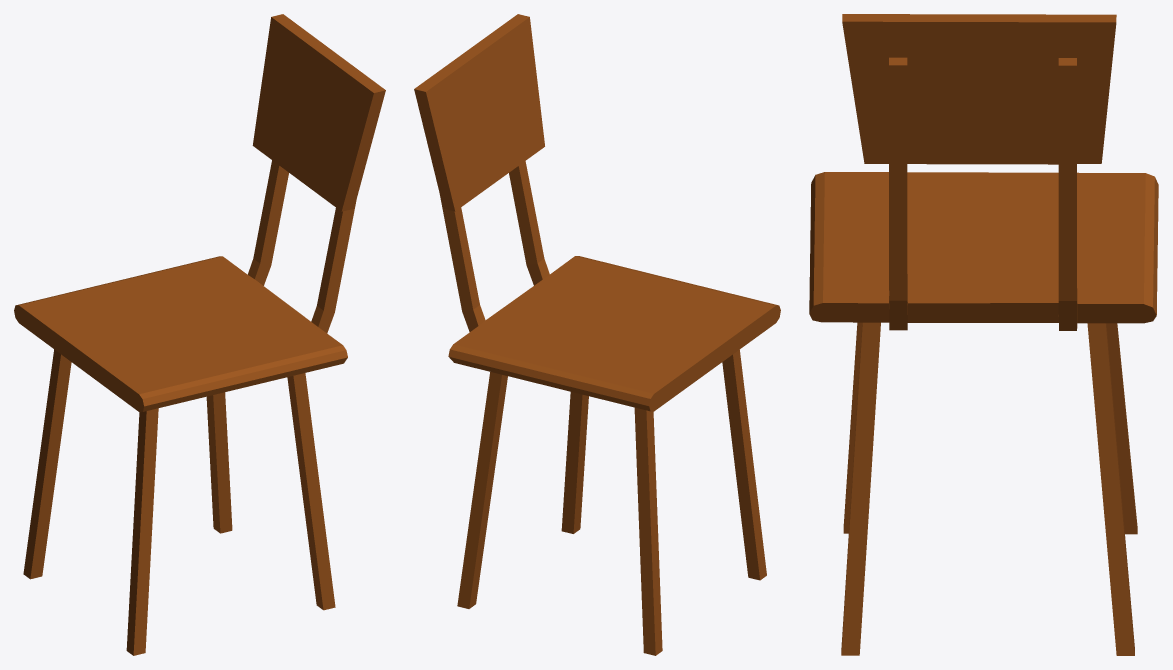
The model's file is SillaComedor.fbx.
3 views of the same model, side by side, from view 1: azimuth 30°, elevation 25°; view 2: azimuth 150°, elevation 25°; view 3: azimuth 270°, elevation 25° (orthographic). The views are drawn at different scales.
Visible parts, largest first — view 1: Cube.020; view 2: Cube.020; view 3: Cube.020.
Part boxes in pixels (box(x1,y1,x2,y2)): Cube.020: box(14, 14, 385, 655); Cube.020: box(414, 14, 780, 655); Cube.020: box(809, 14, 1158, 655).
Bounding box in the file's own units: 0.3776 × 0.6994 × 0.3323.
